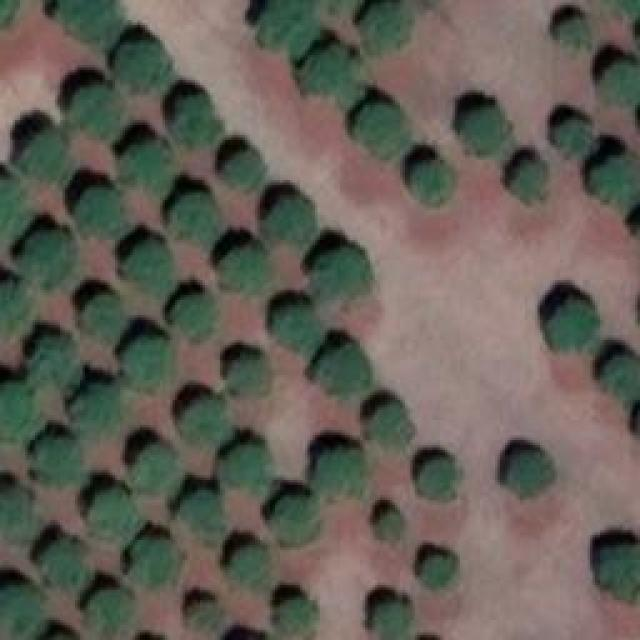Tree: (300, 48, 363, 108), (57, 0, 122, 52), (15, 127, 73, 185), (257, 0, 315, 55), (355, 105, 408, 163), (75, 185, 130, 240), (68, 85, 121, 140), (357, 0, 412, 52), (20, 233, 73, 286), (460, 108, 513, 161), (120, 138, 173, 191), (592, 152, 640, 210), (315, 248, 370, 298), (173, 95, 223, 148), (30, 437, 83, 485), (170, 192, 223, 240), (548, 298, 598, 348), (265, 195, 315, 245), (313, 345, 368, 390), (90, 490, 138, 540), (43, 538, 88, 591), (118, 43, 171, 88), (597, 545, 640, 600), (0, 585, 42, 640), (220, 250, 273, 293), (178, 493, 223, 543), (128, 448, 178, 493), (272, 305, 320, 350), (125, 340, 170, 388), (75, 387, 120, 435), (33, 337, 78, 385), (132, 538, 180, 583), (507, 453, 555, 498), (128, 240, 171, 290), (0, 383, 38, 438), (88, 590, 133, 635), (597, 62, 640, 107), (315, 453, 363, 493), (0, 488, 35, 541), (220, 447, 268, 485), (602, 355, 640, 403), (183, 400, 226, 440), (273, 500, 316, 540), (83, 295, 123, 338), (413, 160, 453, 203), (0, 280, 30, 335), (177, 295, 215, 338), (223, 150, 266, 188), (370, 405, 410, 445), (418, 458, 458, 498), (0, 178, 28, 233), (230, 547, 268, 585), (230, 358, 273, 391), (375, 602, 410, 640), (555, 120, 593, 155), (513, 160, 546, 200), (278, 600, 313, 633), (423, 558, 456, 588), (558, 18, 591, 48), (375, 510, 403, 543), (185, 603, 218, 628)
